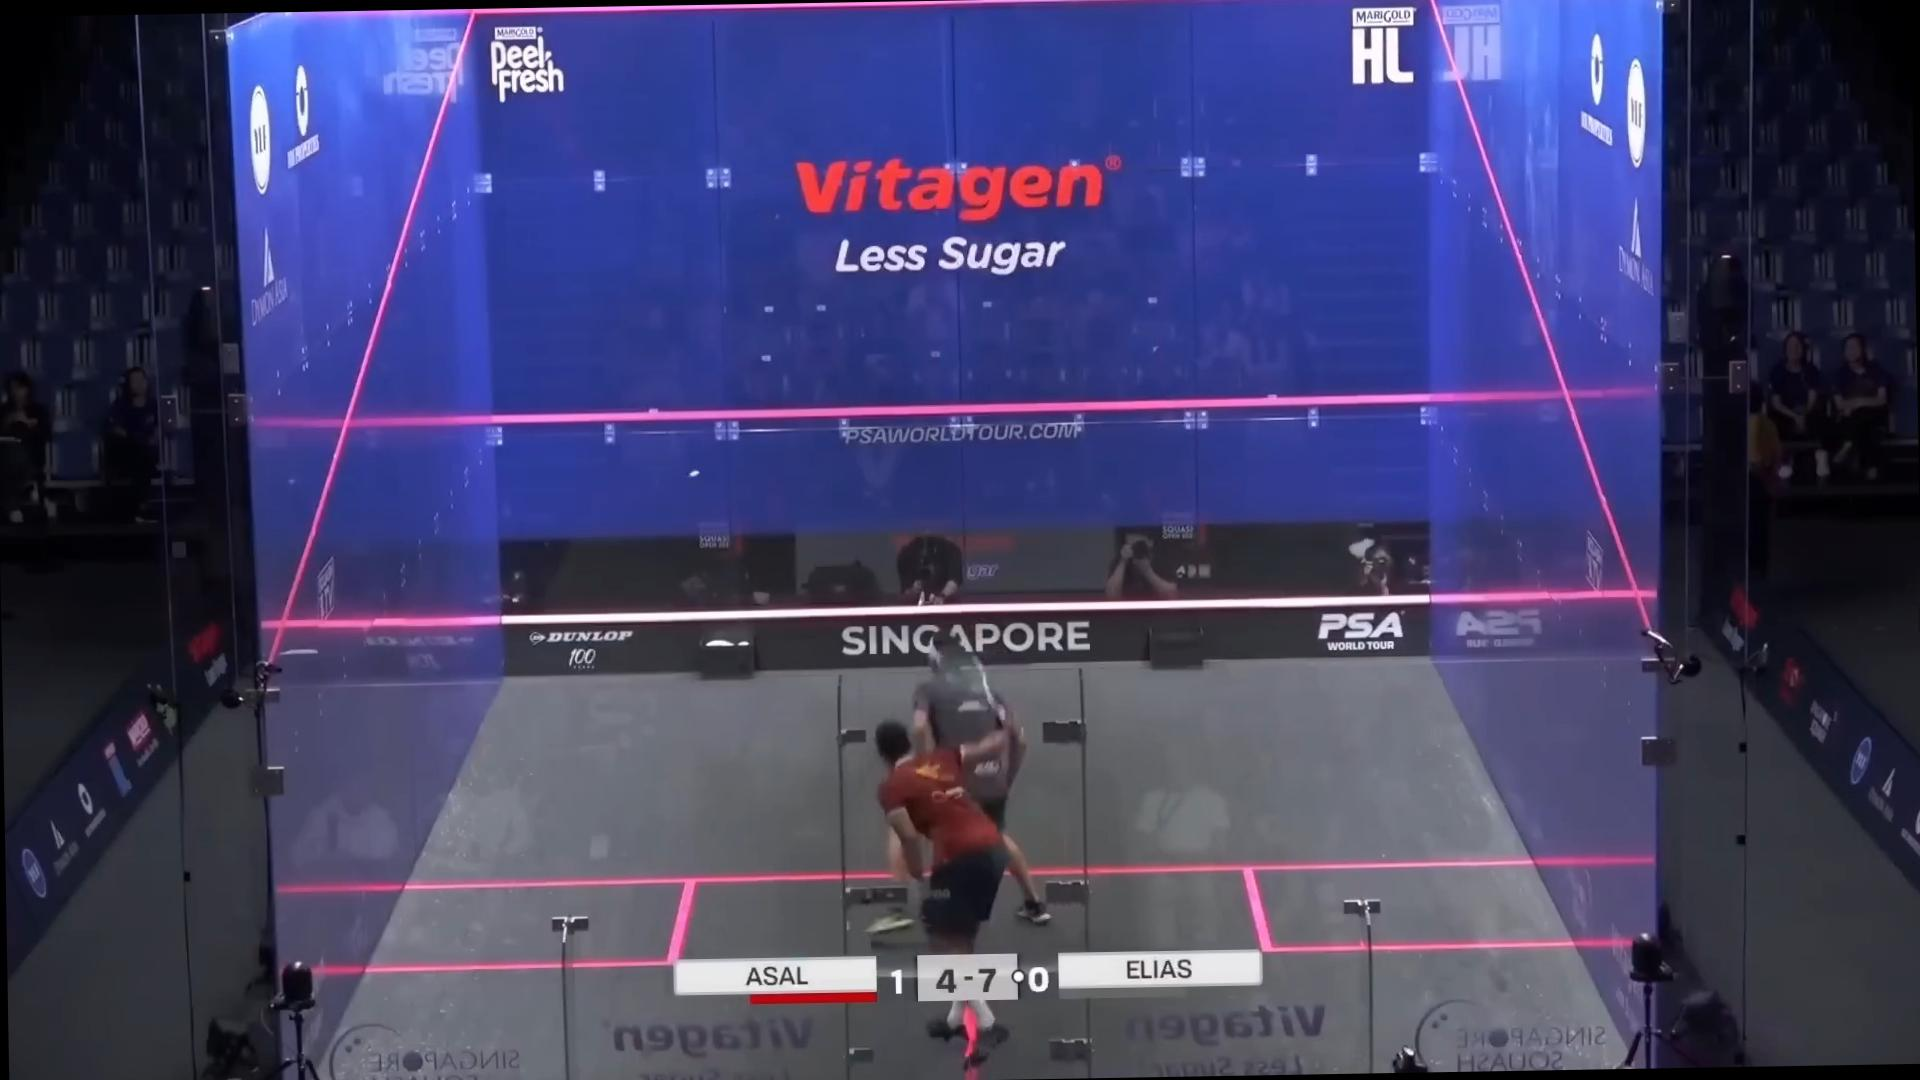Squash-Ball: (673, 451, 716, 493)
